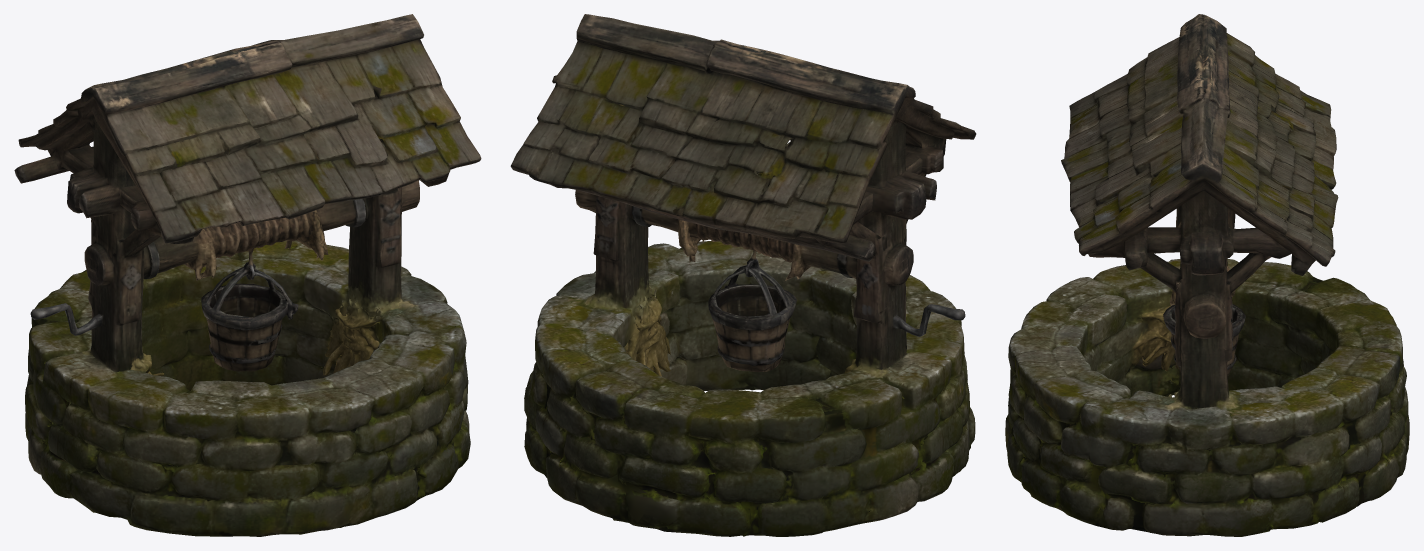
Rendered from prop_well.glb.
The picture shows the model from 3 angles, left to right: view 1: azimuth 30°, elevation 25°; view 2: azimuth 150°, elevation 25°; view 3: azimuth 270°, elevation 25°; orthographic projection. The views are drawn at different scales.
Bounding box in the file's own units: 0.9992 × 0.9473 × 0.9289.
Materials: 1 (1 with a texture image).
